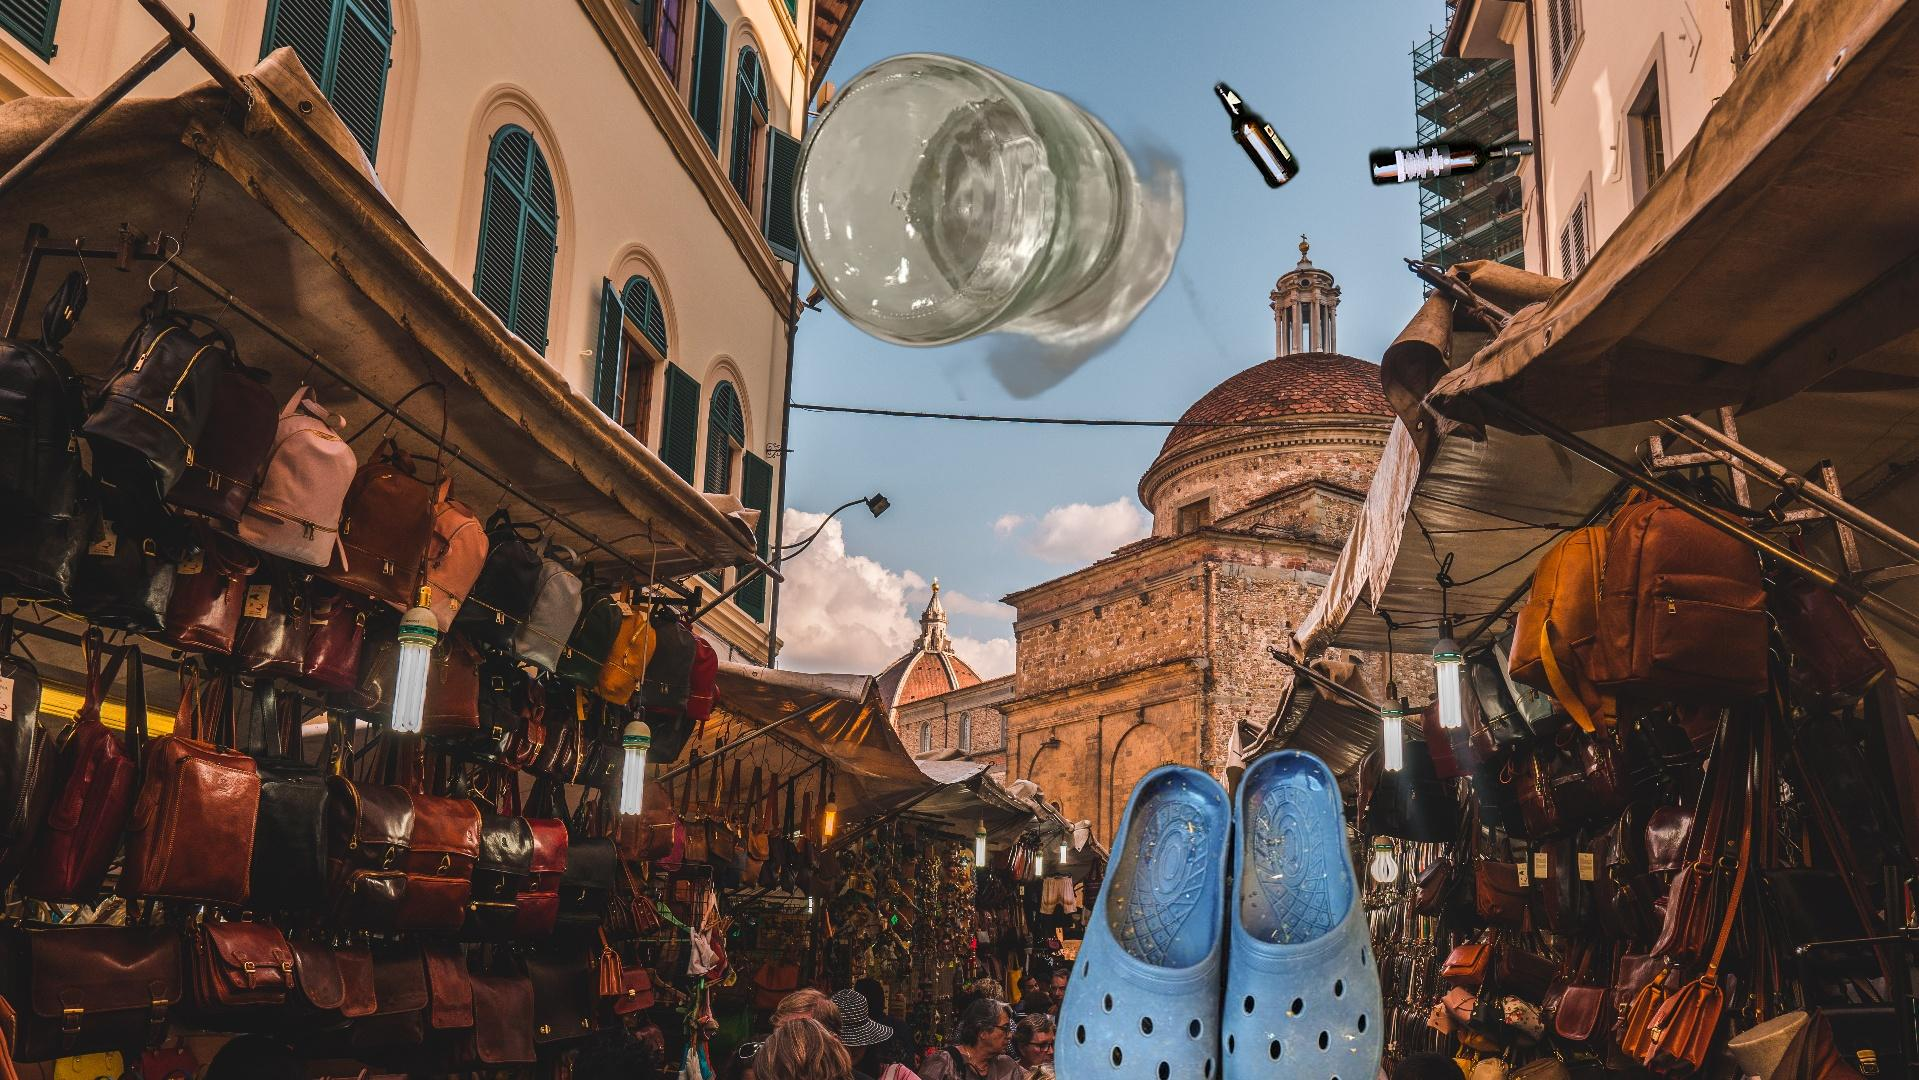glass: (1060, 75, 1572, 511), (786, 49, 1208, 401)
shoes: (1050, 703, 1424, 1080)
